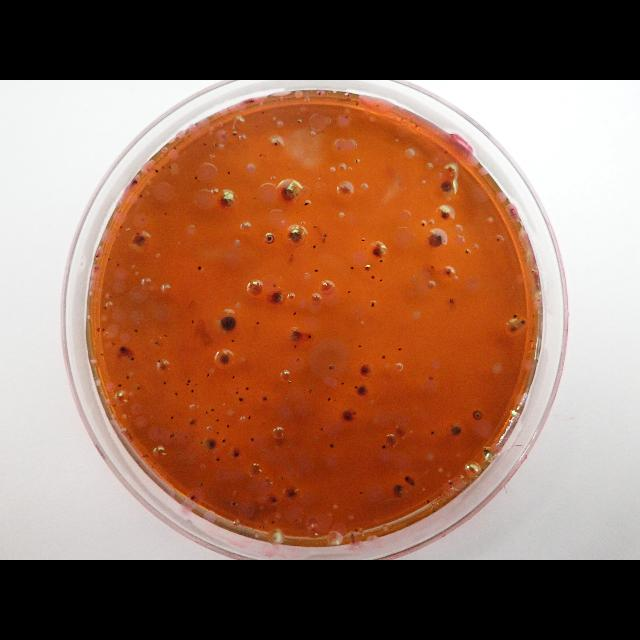colony: (426, 230, 446, 250), (280, 184, 300, 202), (218, 190, 236, 210), (220, 314, 237, 332), (287, 227, 303, 243), (438, 208, 452, 224), (369, 245, 385, 258), (270, 290, 284, 304), (288, 330, 302, 342), (132, 234, 146, 246), (441, 180, 454, 192), (356, 384, 368, 396), (341, 410, 353, 422), (264, 232, 276, 244), (392, 483, 403, 495), (451, 425, 462, 437), (220, 352, 230, 364), (360, 364, 370, 376), (286, 487, 296, 499), (207, 438, 217, 450), (507, 324, 518, 334), (473, 410, 483, 420), (482, 448, 492, 456), (130, 178, 140, 186), (119, 346, 128, 354), (270, 496, 278, 504), (232, 450, 240, 458), (448, 297, 454, 305), (364, 264, 372, 270), (292, 311, 298, 317), (370, 302, 376, 308), (328, 364, 334, 370), (326, 396, 332, 402), (404, 475, 410, 481), (410, 480, 416, 486), (430, 430, 436, 436), (520, 319, 526, 325), (512, 314, 518, 320), (464, 249, 470, 255), (421, 222, 427, 228), (198, 482, 204, 488), (169, 432, 175, 438), (96, 327, 102, 333), (238, 396, 244, 402), (322, 232, 328, 238), (428, 376, 434, 382), (308, 334, 312, 340), (256, 320, 260, 326), (290, 294, 294, 300), (382, 354, 386, 360), (352, 410, 356, 416), (382, 444, 386, 450), (359, 490, 363, 496), (530, 338, 534, 344), (446, 270, 450, 276), (448, 479, 452, 485), (426, 498, 430, 504), (232, 500, 236, 506), (190, 496, 196, 500), (250, 436, 254, 442), (210, 408, 216, 412), (189, 420, 195, 424), (100, 328, 106, 332), (356, 158, 360, 164), (360, 238, 366, 242), (207, 372, 210, 378), (358, 344, 362, 348), (347, 290, 351, 294), (231, 339, 235, 343), (272, 283, 276, 287), (294, 344, 298, 348), (296, 357, 300, 361), (398, 347, 402, 351), (354, 385, 358, 389), (350, 266, 354, 270), (371, 275, 375, 279), (198, 266, 202, 270), (126, 227, 130, 231), (194, 176, 198, 180), (155, 169, 159, 173), (214, 142, 218, 146), (233, 132, 237, 136), (297, 119, 301, 123), (531, 269, 535, 273), (350, 533, 354, 537), (354, 528, 358, 532), (271, 520, 275, 524), (280, 477, 284, 481), (216, 457, 220, 461), (222, 439, 226, 443), (199, 441, 203, 445), (226, 424, 230, 428), (248, 415, 252, 419), (170, 416, 174, 420), (174, 392, 178, 396), (190, 389, 194, 393), (118, 384, 122, 388), (126, 376, 130, 380), (131, 357, 135, 361), (100, 352, 104, 356), (154, 341, 158, 345), (134, 329, 138, 333), (103, 306, 107, 310), (274, 142, 278, 146), (304, 202, 308, 206), (312, 245, 316, 249), (232, 375, 236, 379), (245, 386, 249, 390), (264, 396, 268, 400), (330, 444, 334, 448), (192, 319, 194, 325), (320, 426, 322, 432), (496, 238, 499, 242), (314, 270, 320, 272), (139, 195, 143, 198), (346, 94, 349, 98), (217, 431, 220, 435), (187, 382, 190, 386), (112, 342, 115, 346), (288, 381, 292, 384), (318, 92, 322, 95), (376, 104, 379, 108), (342, 381, 344, 385), (116, 264, 120, 266), (119, 226, 123, 228), (136, 232, 140, 234), (162, 165, 164, 169), (168, 166, 172, 168), (174, 146, 176, 150), (204, 142, 206, 146), (262, 110, 264, 114), (250, 100, 254, 102), (356, 102, 358, 106), (416, 124, 418, 128), (538, 298, 540, 302), (532, 347, 534, 351), (262, 525, 264, 529), (216, 418, 218, 422), (206, 410, 208, 414), (178, 451, 180, 455), (187, 380, 191, 382), (164, 334, 166, 338), (157, 360, 161, 362), (228, 171, 230, 175), (260, 153, 262, 157), (236, 391, 238, 395), (310, 387, 312, 391), (146, 454, 148, 458), (95, 255, 98, 257), (164, 212, 166, 215), (380, 279, 382, 281), (380, 260, 382, 262), (108, 258, 110, 260), (164, 382, 166, 384), (138, 388, 140, 390), (105, 253, 107, 255)
